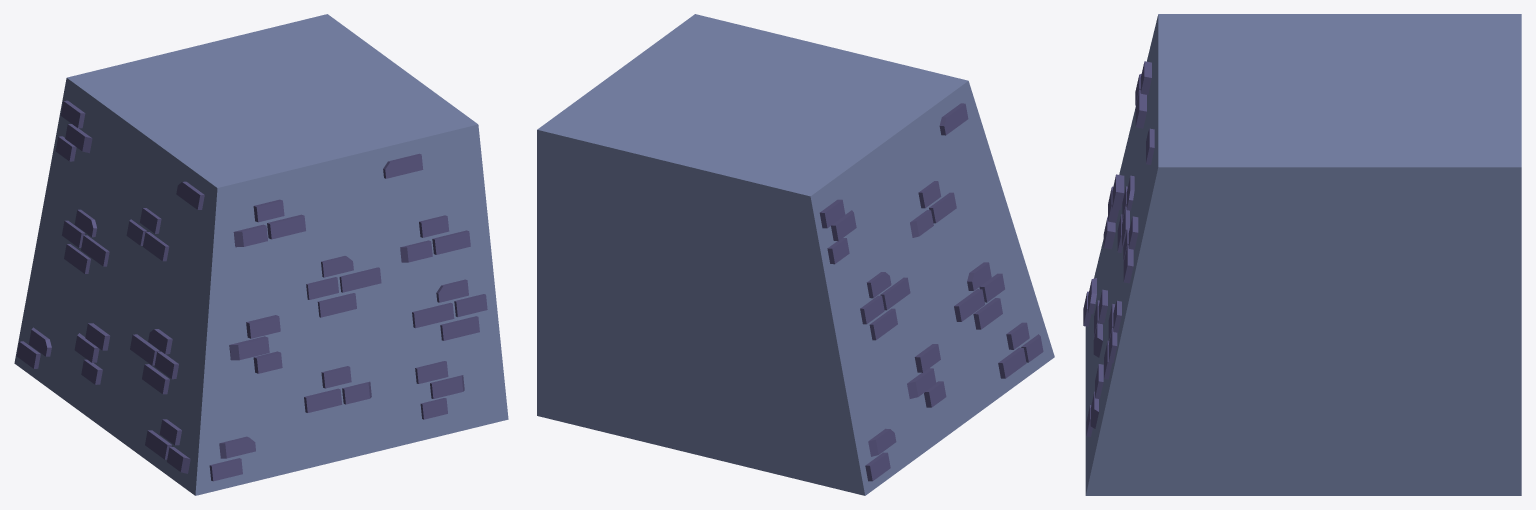
Rendered from Wall_Base_Corner_01.fbx.
The picture shows the model from 3 angles, left to right: view 1: azimuth 30°, elevation 25°; view 2: azimuth 150°, elevation 25°; view 3: azimuth 270°, elevation 25°; orthographic projection. The views are drawn at different scales.
Visible parts, largest first — view 1: Wall_Base_Corner_01; view 2: Wall_Base_Corner_01; view 3: Wall_Base_Corner_01.
Part boxes in pixels (bbox=[...]): Wall_Base_Corner_01: bbox=[14, 14, 508, 495]; Wall_Base_Corner_01: bbox=[537, 14, 1054, 495]; Wall_Base_Corner_01: bbox=[1083, 14, 1521, 495].
Bounding box in the file's own units: 1210 × 1000 × 1208.
